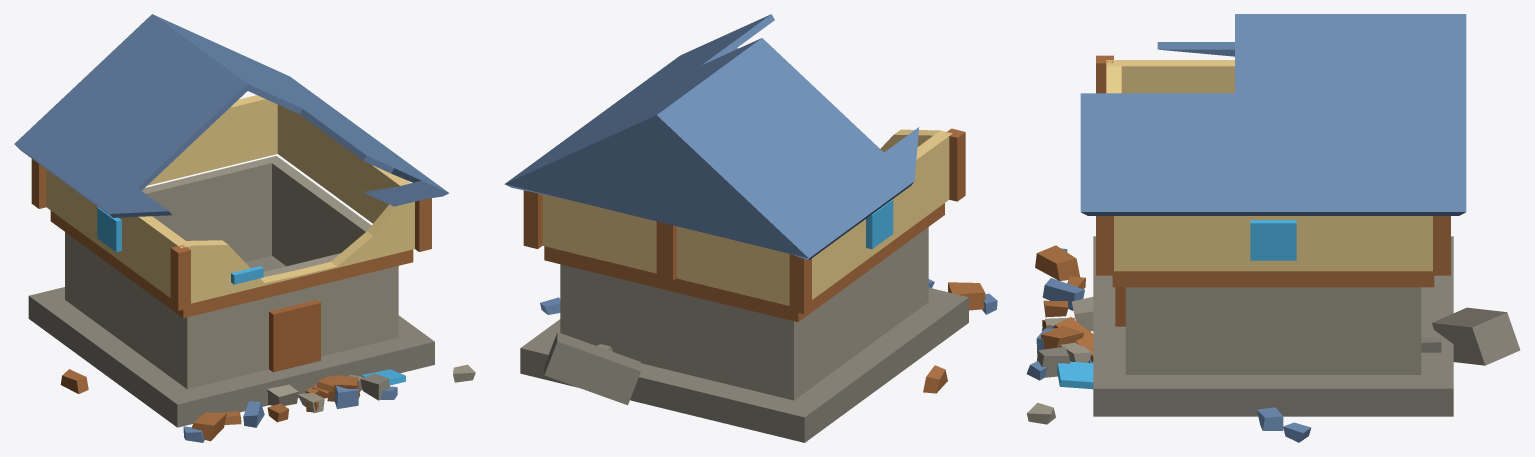
The model's file is house_t2_v3_dmg1.glb.
The picture shows the model from 3 angles, left to right: view 1: azimuth 30°, elevation 25°; view 2: azimuth 150°, elevation 25°; view 3: azimuth 270°, elevation 25°; orthographic projection. The views are drawn at different scales.
Visible parts, largest first — view 1: house_t2_v3_dmg1; view 2: house_t2_v3_dmg1; view 3: house_t2_v3_dmg1.
Part boxes in pixels (x1,y1,x2,y2): house_t2_v3_dmg1: (14, 14, 475, 442); house_t2_v3_dmg1: (504, 14, 997, 442); house_t2_v3_dmg1: (1026, 14, 1520, 442).
Bounding box in the file's own units: 0.9424 × 0.7 × 0.96.
Materials: 1 (1 with a texture image).
